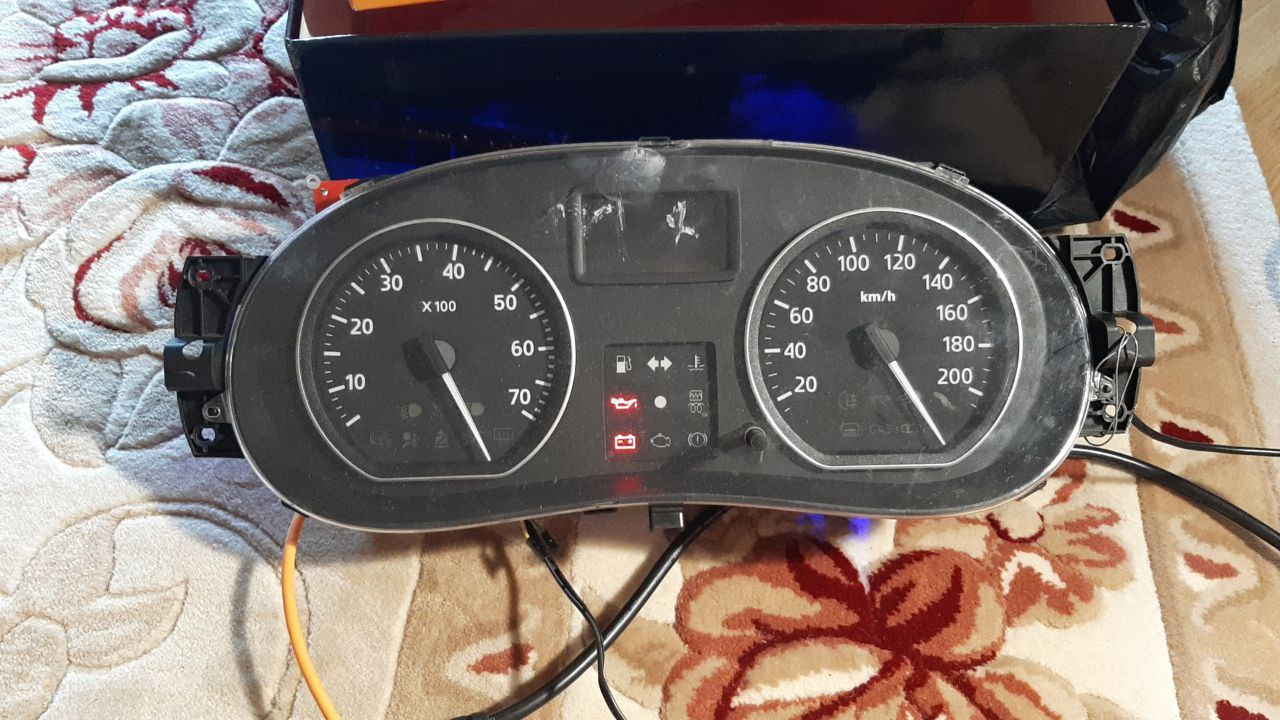oil: (604, 390, 640, 417)
